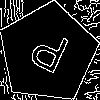P: (23, 28, 72, 83)
